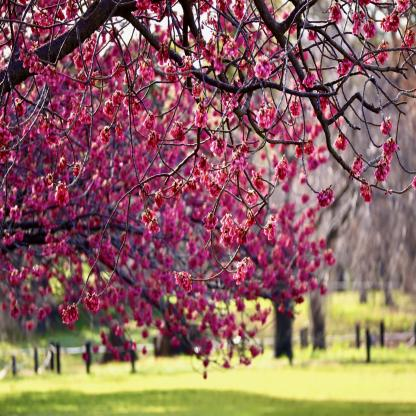KanhiSakura: (1, 0, 416, 382)
